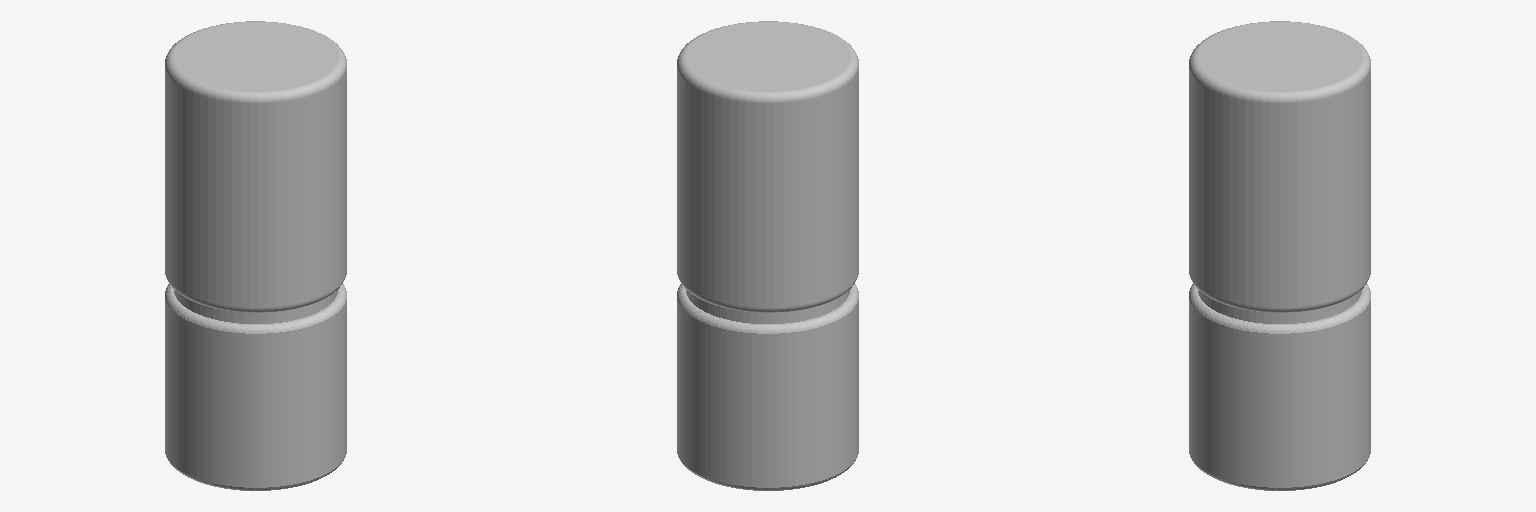
Rendered from tallLightFlatCylinder.obj.
3 views of the same model, side by side, from view 1: azimuth 30°, elevation 25°; view 2: azimuth 150°, elevation 25°; view 3: azimuth 270°, elevation 25° (orthographic).
Parts seen in each view (by area): view 1: Cylinder.002, Cylinder, Cylinder.001; view 2: Cylinder.002, Cylinder, Cylinder.001; view 3: Cylinder.002, Cylinder, Cylinder.001.
Part boxes in pixels (x1,y1,x2,y2): Cylinder.002: (165, 21, 346, 312); Cylinder: (165, 284, 346, 490); Cylinder.001: (174, 290, 337, 323); Cylinder.002: (677, 21, 858, 312); Cylinder: (677, 284, 858, 490); Cylinder.001: (686, 290, 849, 323); Cylinder.002: (1189, 21, 1370, 312); Cylinder: (1189, 284, 1370, 490); Cylinder.001: (1198, 290, 1361, 323).
Bounding box in the file's own units: 2 × 4.81 × 2.